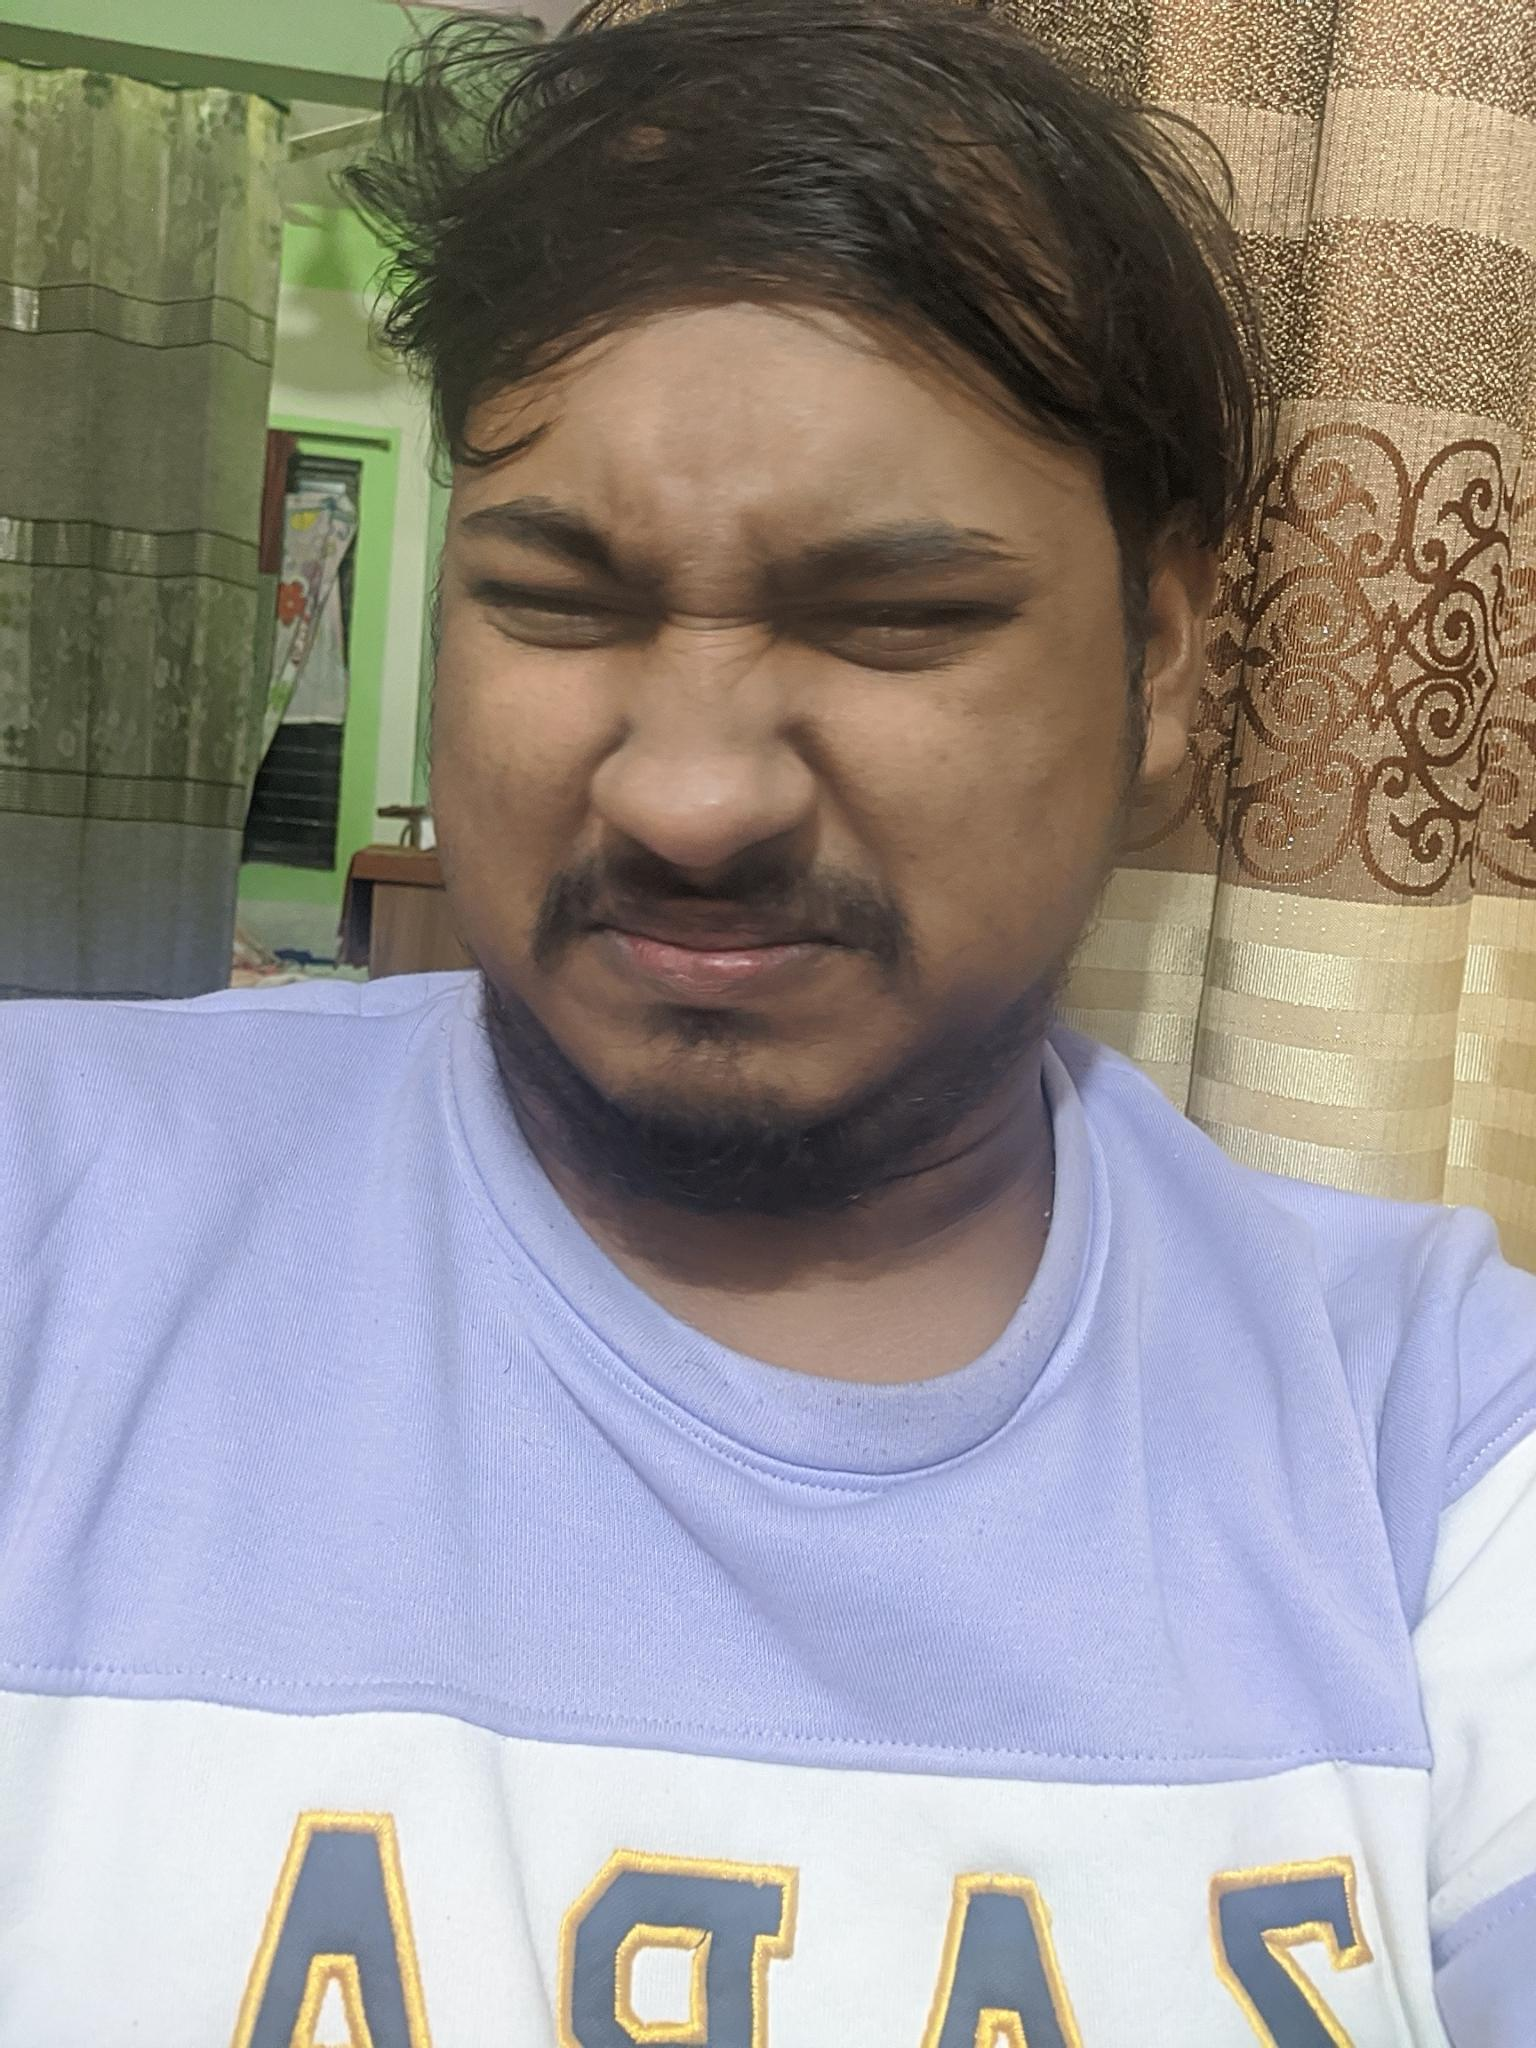Disgust: (415, 384, 1126, 1156)
